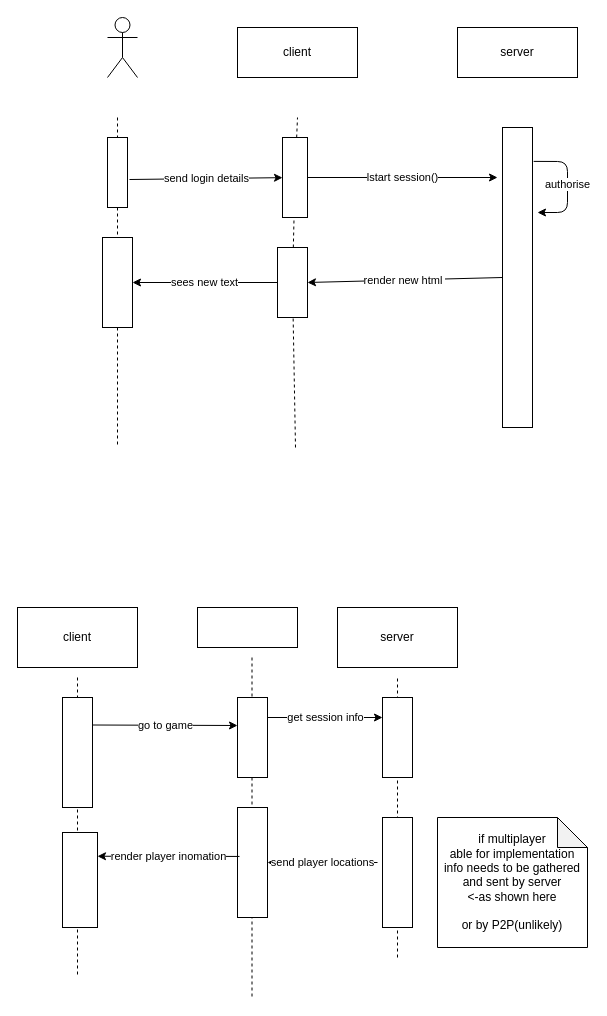
This 607x1016 diagram has some shape labels left out. The shapes that lost their labels are listed below. From the top down, each one's centre as x and y in pixels, then its label:
point (122, 47): User
point (247, 627): Game
